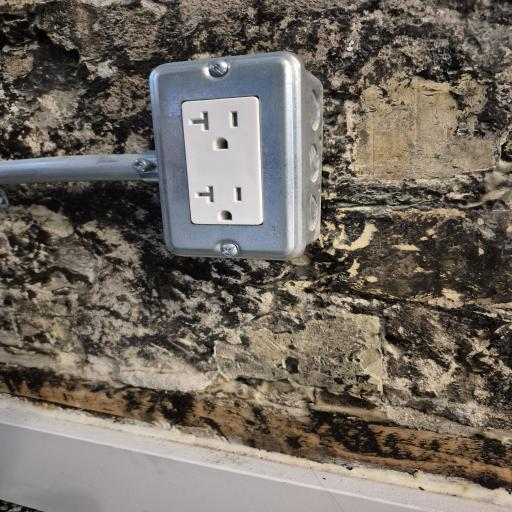outlet: (136, 56, 366, 278)
